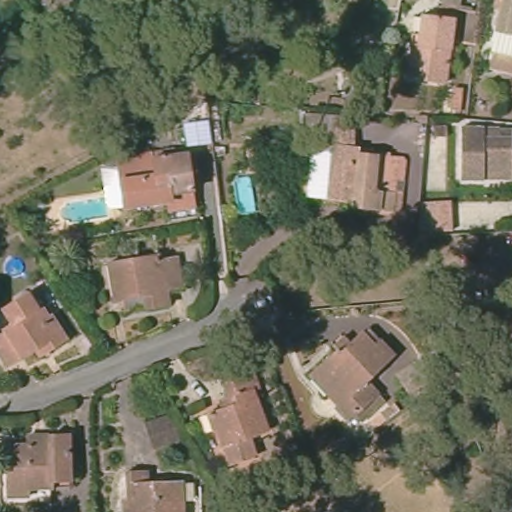pool: (52, 195, 115, 225), (229, 171, 265, 215), (4, 254, 28, 278)
